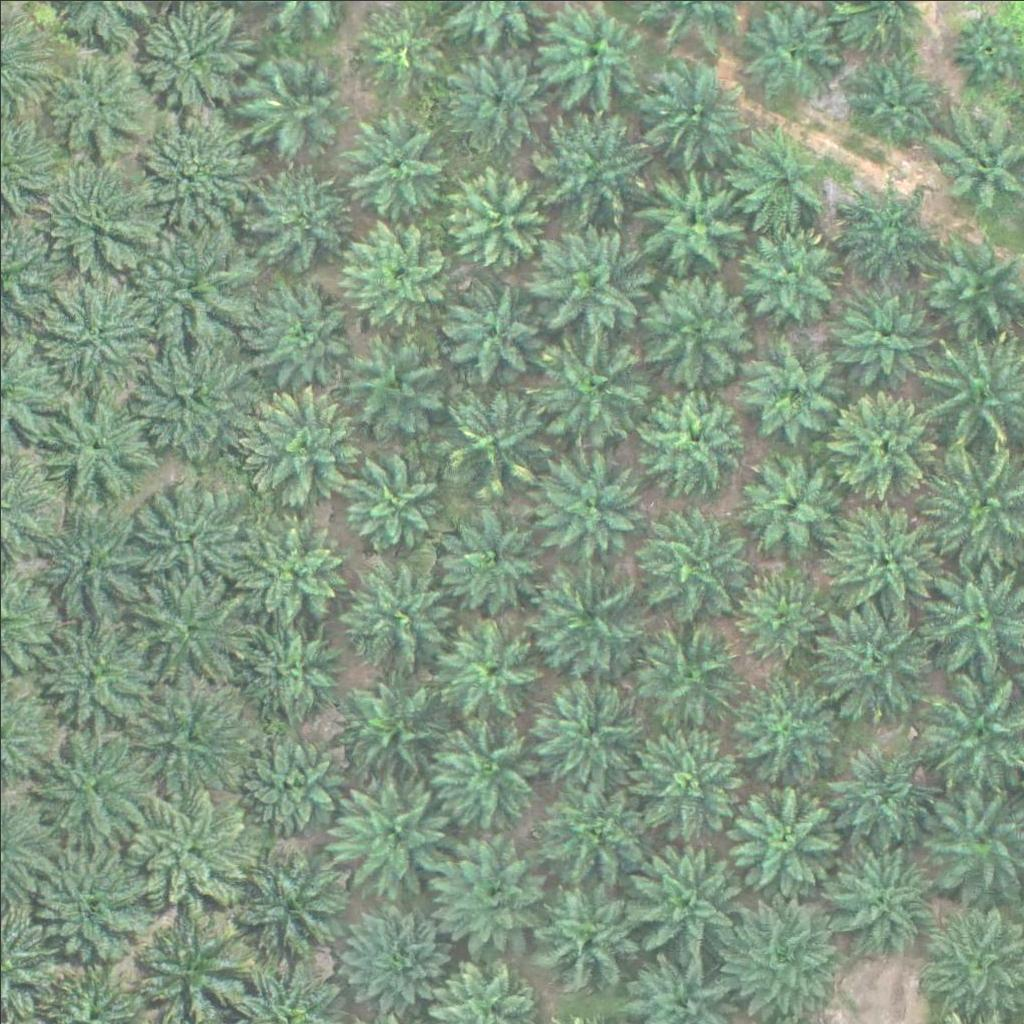Kelapa_Sawit: (219, 842, 344, 968), (120, 772, 245, 898), (819, 595, 944, 721), (526, 213, 651, 339), (237, 389, 362, 515), (241, 272, 366, 398), (124, 331, 249, 457), (124, 220, 249, 346), (27, 844, 152, 970), (24, 501, 149, 627), (127, 111, 252, 237), (36, 146, 161, 272), (330, 765, 455, 890), (116, 571, 241, 696), (29, 269, 154, 394), (434, 835, 547, 949), (528, 881, 641, 995), (532, 768, 645, 882), (825, 841, 938, 955), (826, 737, 939, 851), (724, 670, 837, 784), (631, 505, 744, 619), (40, 724, 153, 838), (132, 910, 245, 1023), (640, 384, 753, 497), (637, 271, 750, 384), (429, 715, 542, 828), (340, 555, 453, 668), (537, 105, 650, 218), (35, 622, 148, 735), (44, 384, 157, 497), (632, 843, 744, 957), (729, 775, 841, 889), (630, 614, 742, 728), (534, 451, 646, 565), (536, 328, 648, 442), (439, 377, 551, 491), (339, 210, 451, 324), (340, 904, 452, 1017), (724, 898, 836, 1011), (824, 496, 936, 609), (824, 395, 936, 508), (631, 730, 743, 843), (529, 675, 641, 788), (530, 555, 642, 668), (238, 512, 350, 625), (130, 476, 242, 589), (830, 282, 930, 383), (738, 456, 838, 557), (740, 333, 840, 434), (441, 621, 541, 722), (443, 514, 543, 615), (342, 669, 442, 770), (341, 446, 441, 547), (236, 739, 336, 840), (241, 614, 341, 715), (135, 688, 235, 789), (444, 42, 544, 143), (543, 2, 643, 103), (639, 166, 739, 267), (646, 69, 746, 170), (729, 133, 829, 234), (742, 221, 842, 322), (838, 180, 938, 281), (838, 48, 938, 149), (49, 53, 149, 154), (730, 563, 830, 663), (437, 286, 537, 386), (347, 332, 447, 432), (250, 160, 350, 260), (242, 52, 342, 152), (343, 110, 443, 210), (446, 165, 546, 265), (354, 2, 442, 90), (948, 6, 1023, 82)
